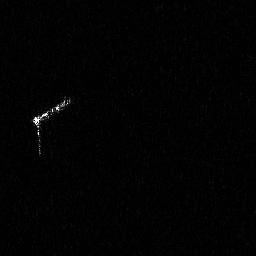ship: (30, 92, 74, 160)
